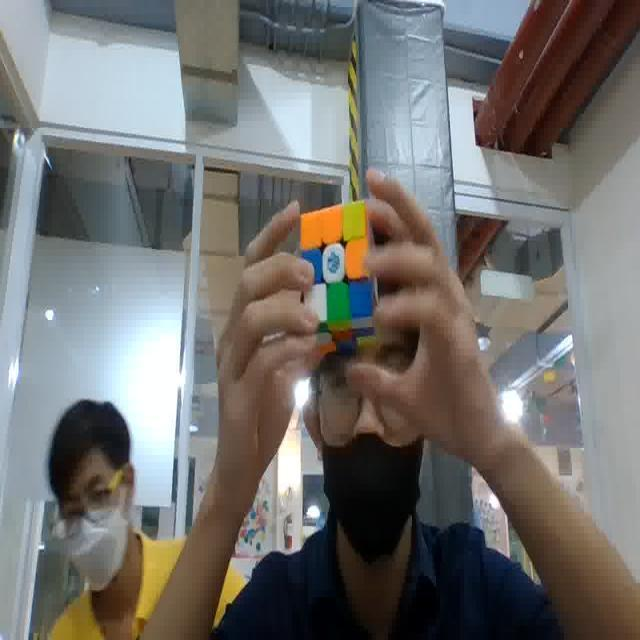Rub: (298, 198, 382, 356)
